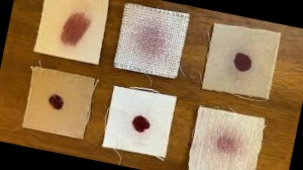wine: (128, 19, 172, 63), (56, 5, 93, 52), (203, 121, 247, 157), (227, 48, 254, 74), (129, 114, 154, 138), (49, 91, 70, 114)
